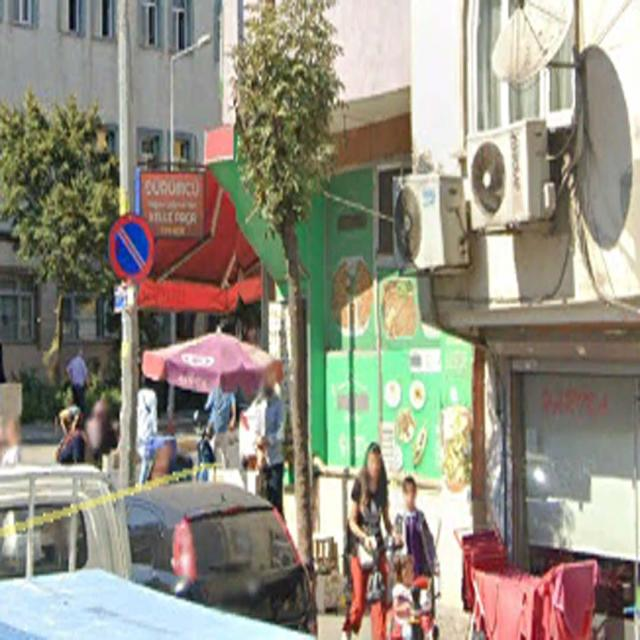parkyasak: (108, 213, 152, 281)
